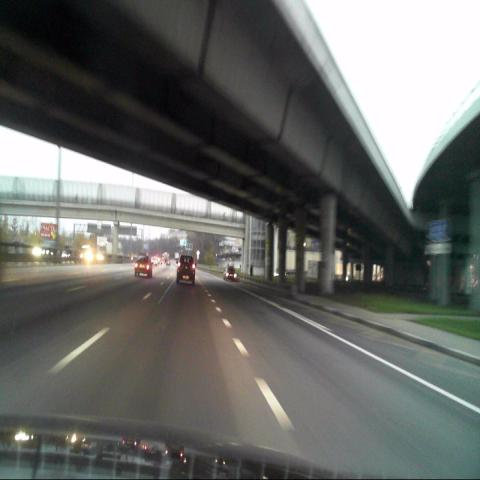6_7: (438, 219, 452, 242)
